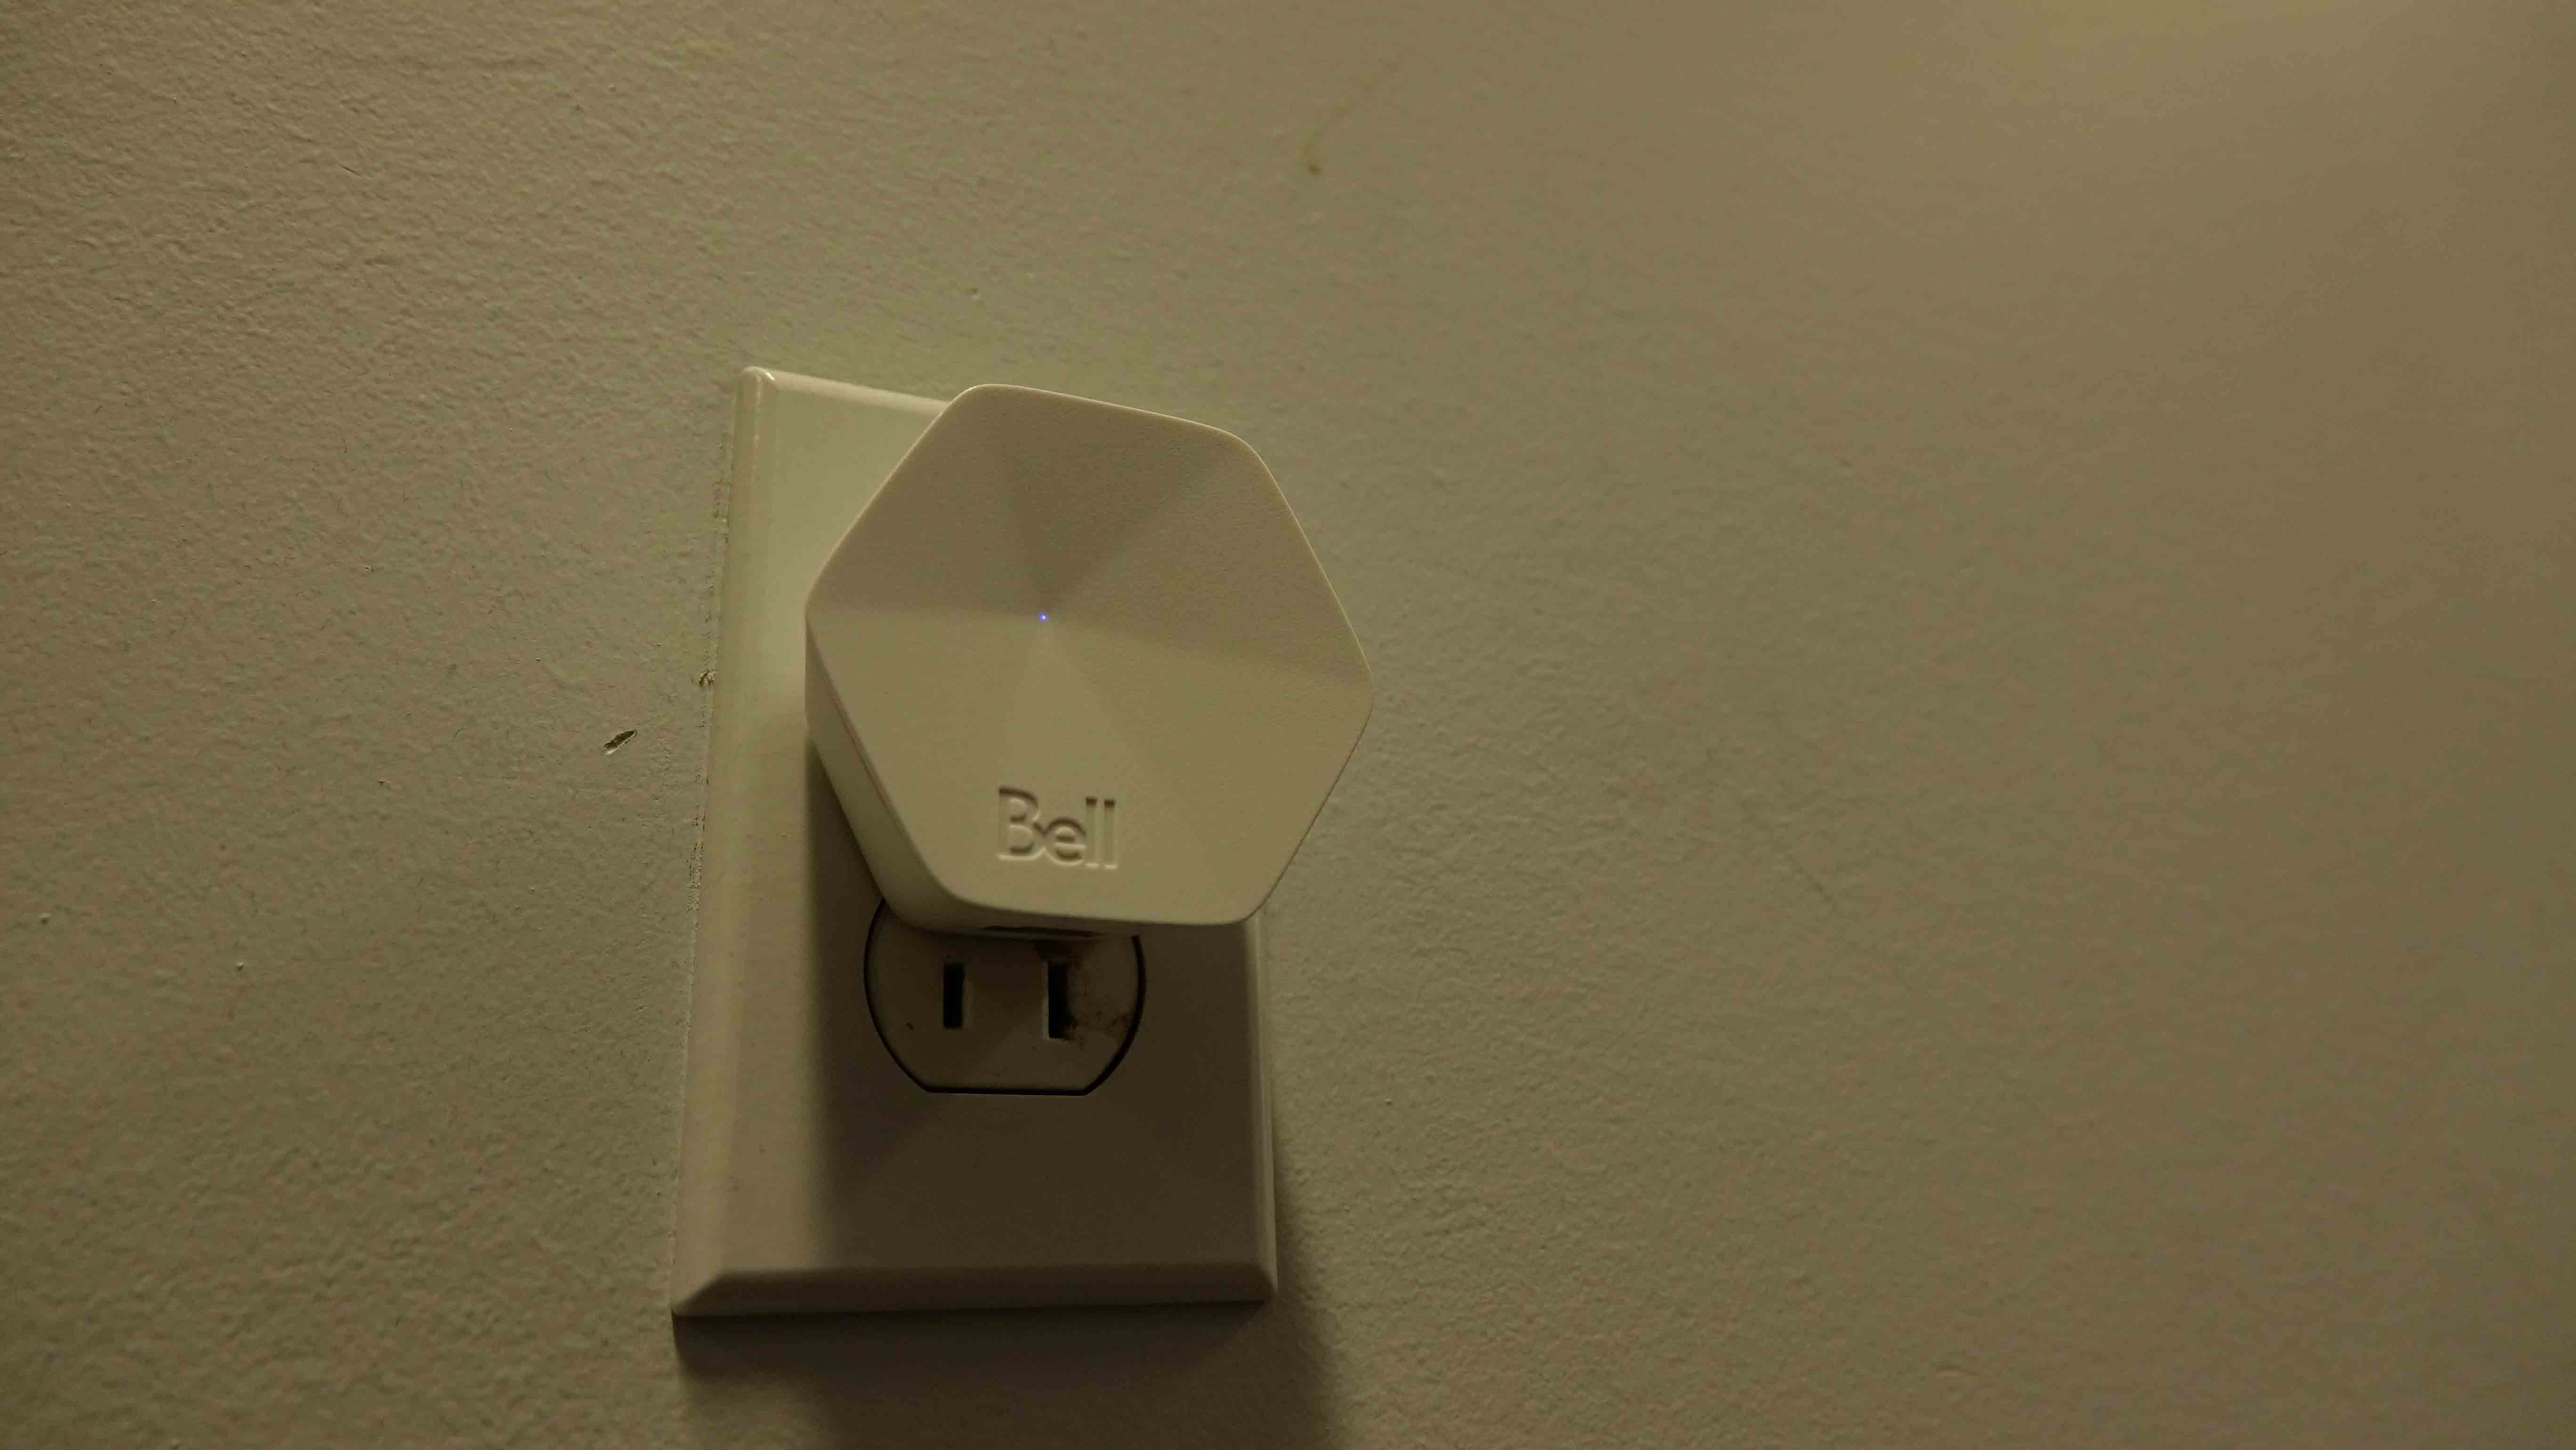pod: (778, 366, 1408, 962)
